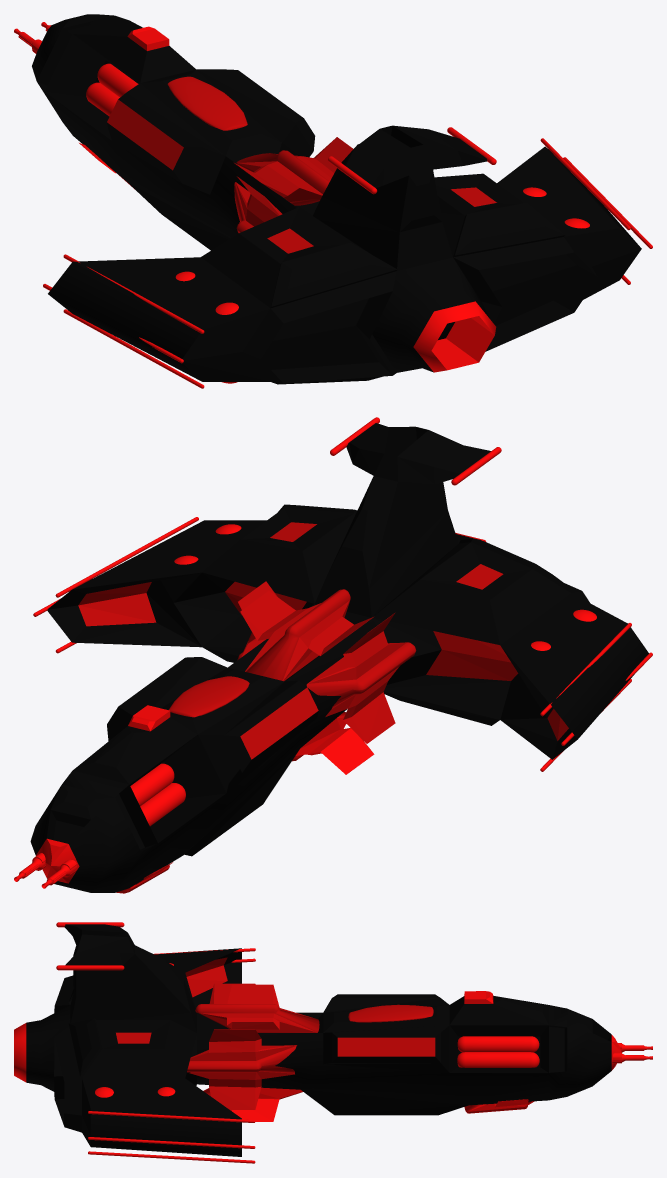
File: rabbit.glb
3 renders of one model, top to bottom at view 1: azimuth 30°, elevation 25°; view 2: azimuth 150°, elevation 25°; view 3: azimuth 270°, elevation 25°, orthographic. The views are drawn at different scales.
Parts seen in each view (by area): view 1: ChamferCyl2134, ChamferBox001_07 - Default_0, Cham678rCyl012, ChamferBox003, Ch345ferCyl011, Chamfe1233, Ch34yl010, ChamferCy12; view 2: ChamferCyl2134, ChamferBox001_07 - Default_0, ChamferBox003, ChamferBox002, Cham678rCyl012, Ch34yl010, Ch345ferCyl011, ChamferCy12; view 3: ChamferCyl2134, ChamferBox004, ChamferBox001_07 - Default_0, Chamfe34, ChamferCyl0034345, Cham678rCyl012, ChamferBox002, ChamferBox005, Ch12ferCyl006, ChamferCy12, Chamfer12, ChamferBox003 (+1 smaller).
Boxes of the visible parts, bbox=[...] form: ChamferCyl2134: bbox=[32, 14, 641, 384]; ChamferBox001_07 - Default_0: bbox=[233, 137, 353, 205]; Cham678rCyl012: bbox=[167, 76, 247, 130]; ChamferBox003: bbox=[234, 176, 282, 232]; Ch345ferCyl011: bbox=[97, 63, 138, 97]; Chamfe1233: bbox=[63, 309, 204, 388]; Ch34yl010: bbox=[86, 82, 119, 116]; ChamferCy12: bbox=[540, 138, 630, 230]; ChamferCyl2134: bbox=[30, 423, 648, 892]; ChamferBox001_07 - Default_0: bbox=[240, 589, 373, 681]; ChamferBox003: bbox=[306, 613, 416, 743]; ChamferBox002: bbox=[292, 712, 374, 774]; Cham678rCyl012: bbox=[169, 676, 249, 717]; Ch34yl010: bbox=[140, 783, 185, 826]; Ch345ferCyl011: bbox=[130, 763, 174, 806]; ChamferCy12: bbox=[55, 517, 198, 597]; ChamferCyl2134: bbox=[14, 924, 621, 1156]; ChamferBox004: bbox=[187, 1029, 296, 1109]; ChamferBox001_07 - Default_0: bbox=[195, 984, 319, 1032]; Chamfe34: bbox=[457, 1052, 539, 1067]; ChamferCyl0034345: bbox=[457, 1036, 539, 1052]; Cham678rCyl012: bbox=[348, 1004, 433, 1022]; ChamferBox002: bbox=[203, 1087, 302, 1121]; ChamferBox005: bbox=[464, 1099, 534, 1113]; Ch12ferCyl006: bbox=[88, 1151, 255, 1163]; ChamferCy12: bbox=[88, 1111, 255, 1122]; Chamfer12: bbox=[88, 1137, 255, 1148]; ChamferBox003: bbox=[209, 983, 255, 1003].
Size of the model in its own units: 74.43 by 32.84 by 106.
